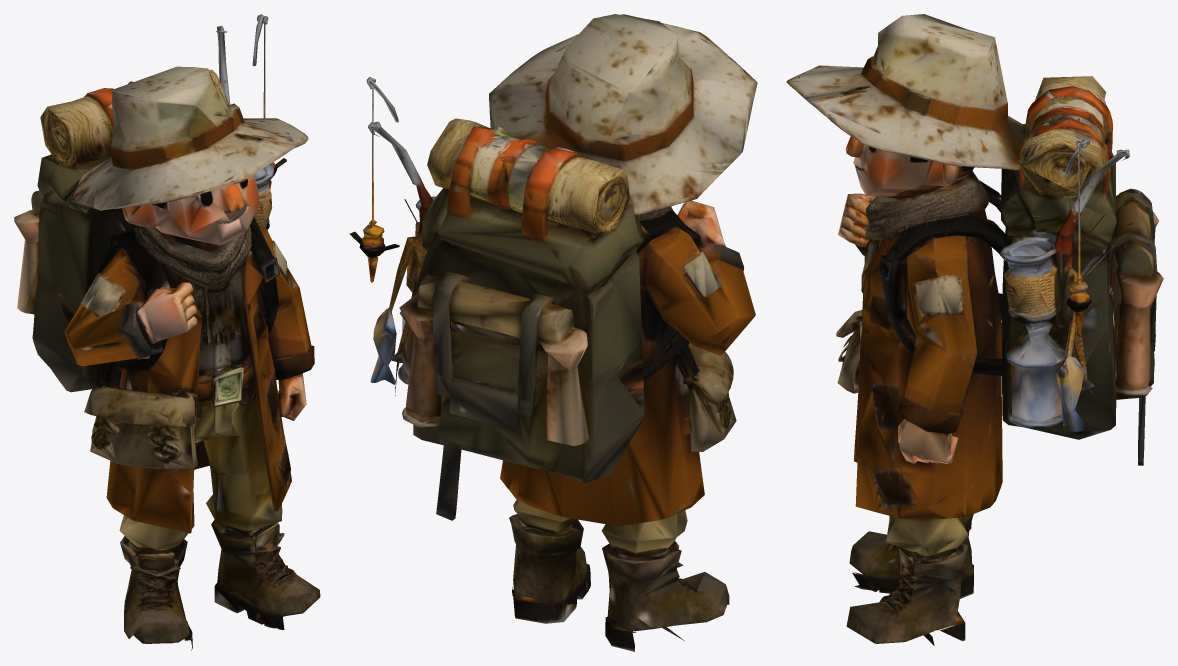
File: merchant_hi.glb
3 views of the same model, side by side, from view 1: azimuth 30°, elevation 25°; view 2: azimuth 150°, elevation 25°; view 3: azimuth 270°, elevation 25° (orthographic). The views are drawn at different scales.
Visible parts, largest first — view 1: material; view 2: material; view 3: material.
Boxes of the visible parts, <box> form: material: <box>14,14,320,650</box>; material: <box>349,14,757,651</box>; material: <box>786,14,1163,645</box>.
Bounding box in the file's own units: 0.5232 × 0.9373 × 0.5592.
1 material, 1 textured.
